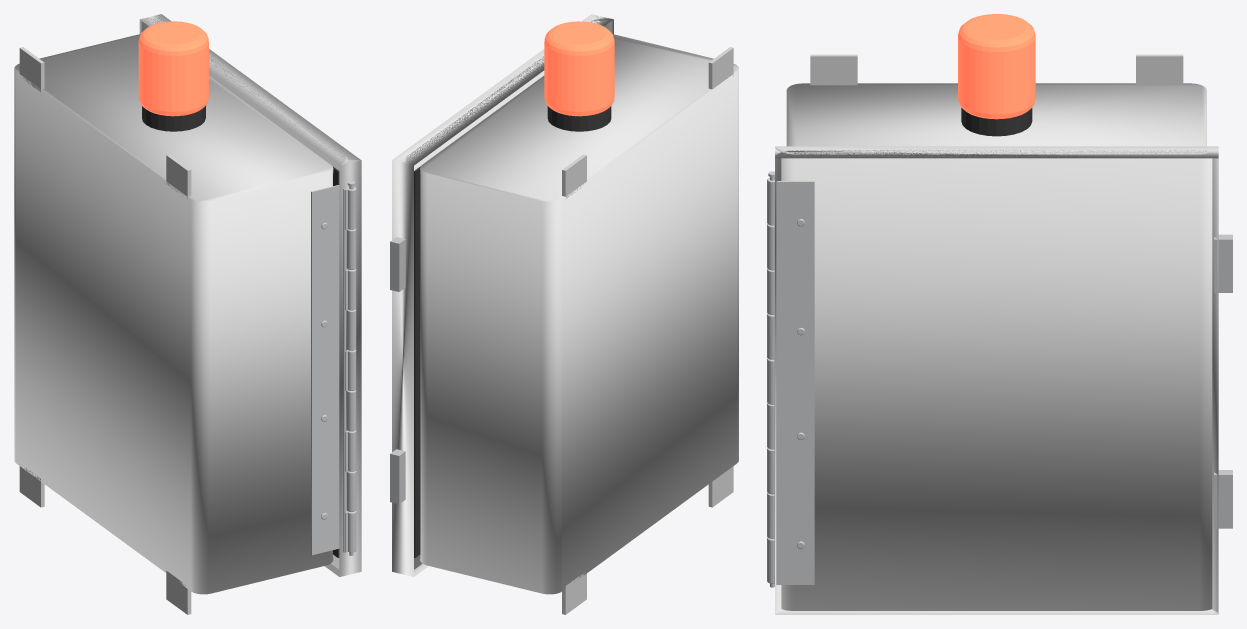
Rendered from lift_station_duplex_panel.glb.
3 views of the same model, side by side, from view 1: azimuth 30°, elevation 25°; view 2: azimuth 150°, elevation 25°; view 3: azimuth 270°, elevation 25° (orthographic). The views are drawn at different scales.
Visible parts, largest first — view 1: control_panel, panel_door, alarm_lit; view 2: control_panel, panel_door, alarm_lit; view 3: panel_door, control_panel, alarm_lit.
Boxes of the visible parts, bbox=[...] form: control_panel: bbox=[14, 34, 356, 614]; panel_door: bbox=[139, 14, 361, 576]; alarm_lit: bbox=[138, 21, 208, 116]; control_panel: bbox=[420, 34, 738, 614]; panel_door: bbox=[390, 14, 613, 576]; alarm_lit: bbox=[544, 21, 614, 116]; panel_door: bbox=[767, 146, 1232, 614]; control_panel: bbox=[767, 54, 1206, 587]; alarm_lit: bbox=[958, 14, 1035, 119].
Bounding box in the file's own units: 0.1713 × 0.5214 × 0.3943.
